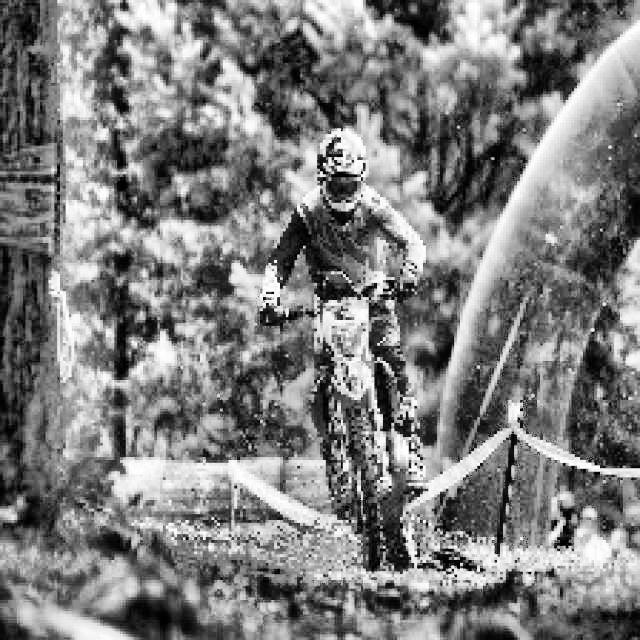motorcycle: (242, 269, 477, 573)
